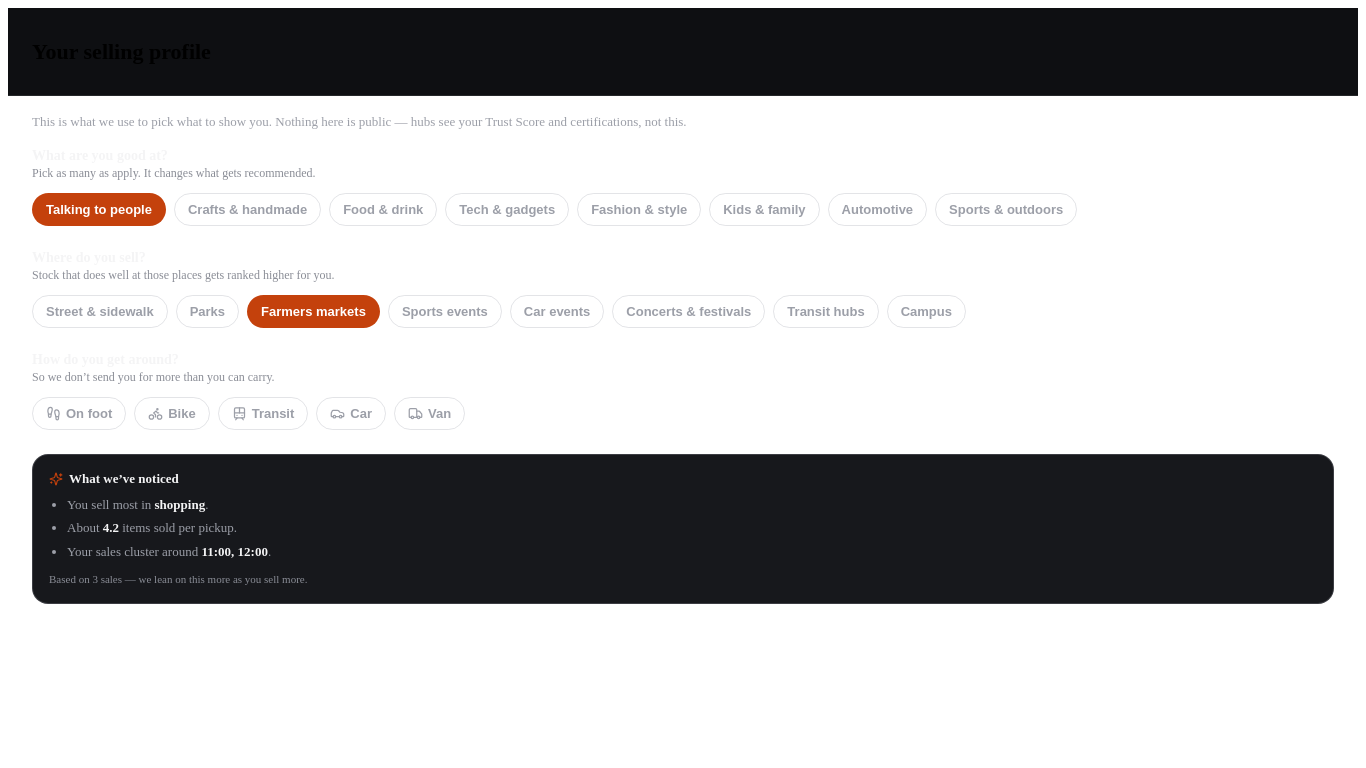
it: D-2 seller profile (demo mode) › toggles a skill
What coordinates should you click on to do the following:
click the switch labelled "Automotive"
I would click on:
 (877, 210)
Its box is [828,193,927,226].
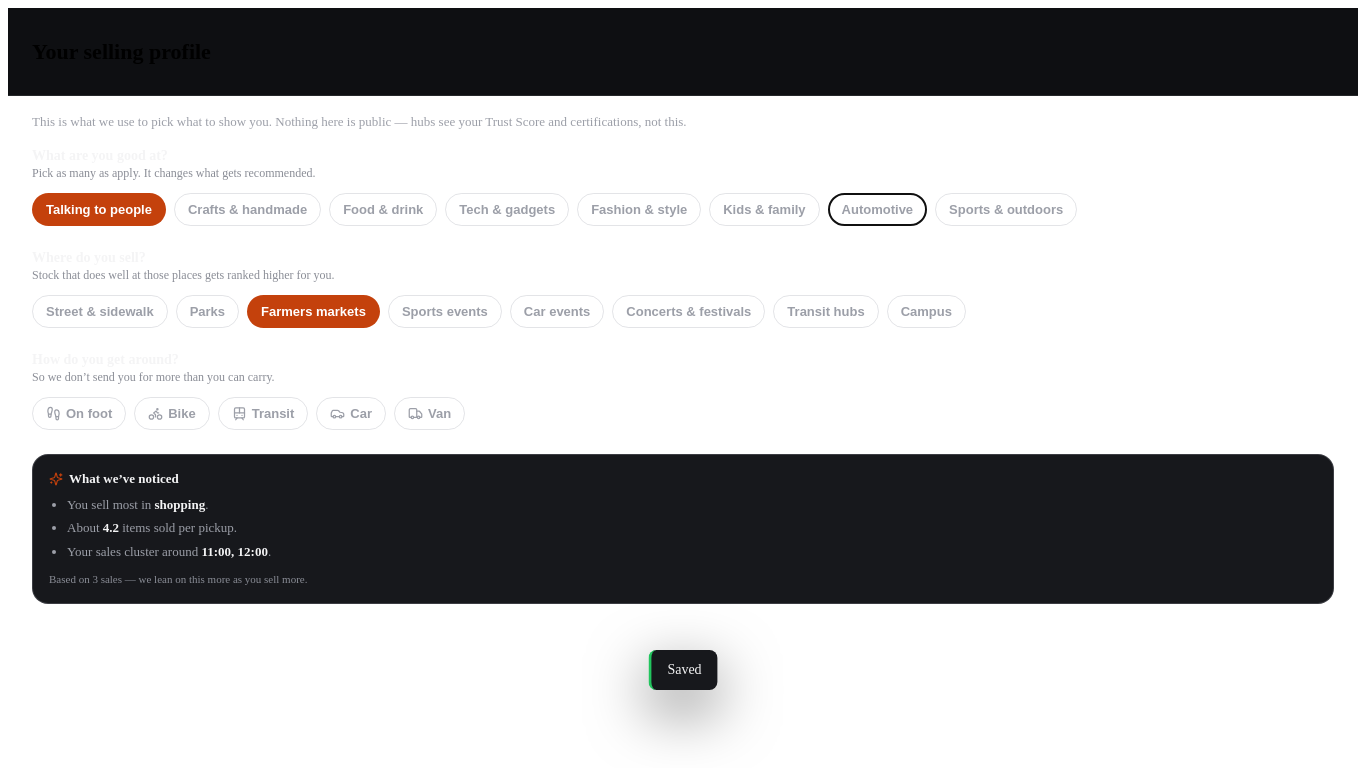
expect the text "Saved" is shown: met, box [648,650,718,690]
